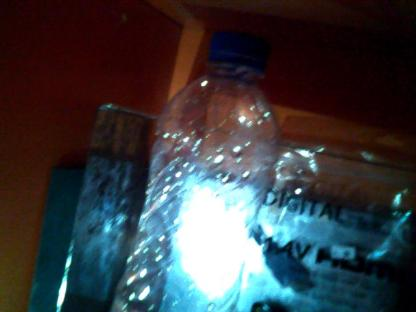Plastic Bottle: (94, 22, 296, 312)
